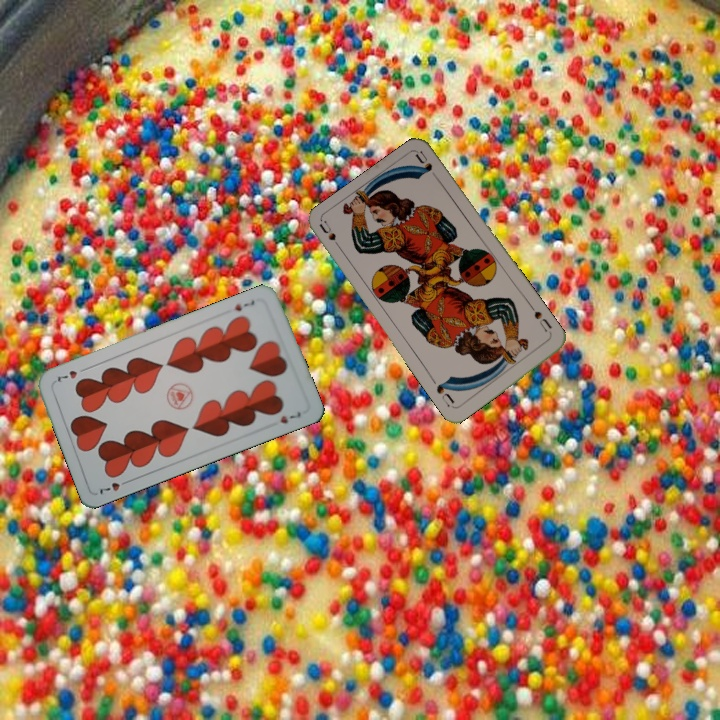H7: (95, 475, 133, 497), (230, 296, 257, 314)
SU: (316, 218, 346, 255), (527, 302, 555, 339)
